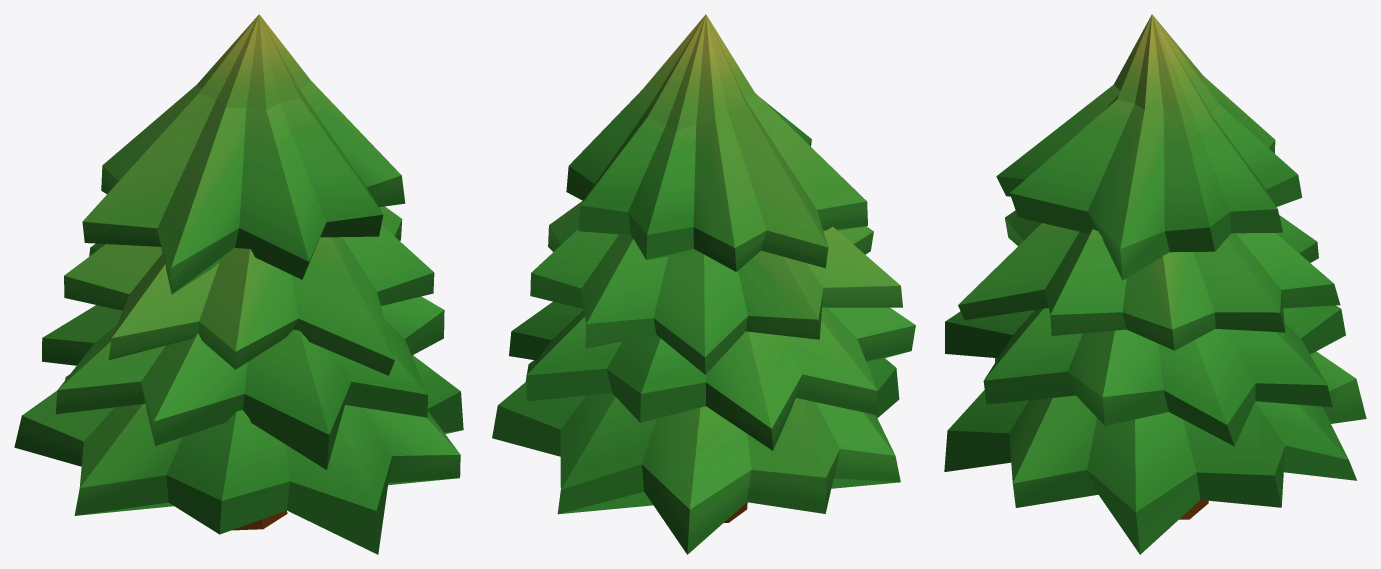
The model's file is ArvorePinheiro.fbx.
3 renders of one model, left to right at view 1: azimuth 30°, elevation 25°; view 2: azimuth 150°, elevation 25°; view 3: azimuth 270°, elevation 25°, orthographic. The views are drawn at different scales.
Visible parts, largest first — view 1: ArvorePinheiro; view 2: ArvorePinheiro; view 3: ArvorePinheiro.
Part boxes in pixels (x1,y1,x2,y2): ArvorePinheiro: [14, 14, 463, 554]; ArvorePinheiro: [492, 14, 915, 554]; ArvorePinheiro: [944, 14, 1366, 554].
Bounding box in the file's own units: 1159 × 1430 × 1112.
Materials: 1 (1 with a texture image).
